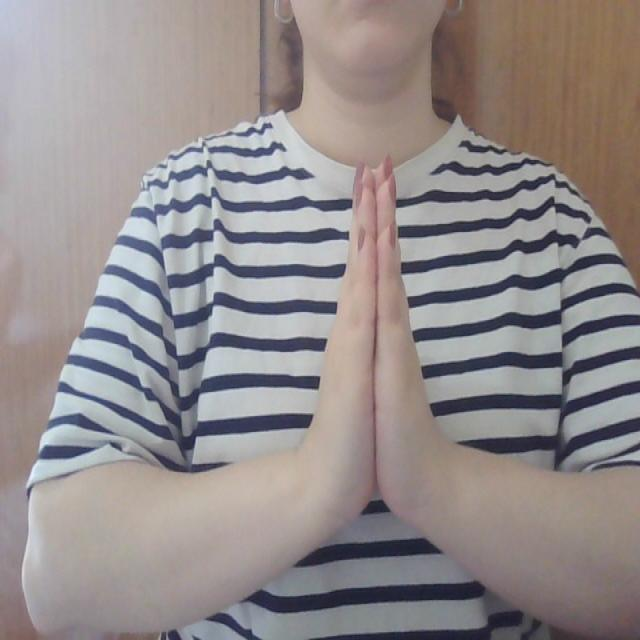Ozur-Dilemek: (302, 147, 440, 548)
